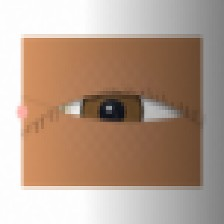pinguecula_lesion: (39, 90, 81, 124)
